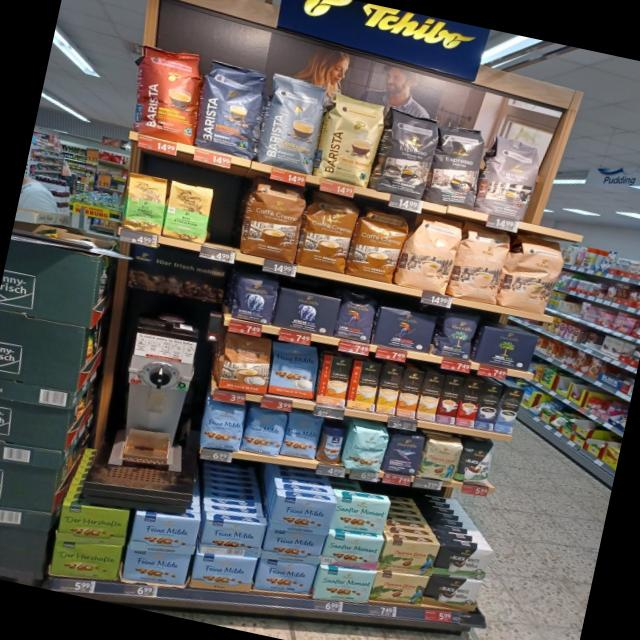AB Bohne: (228, 271, 280, 327)
AB Gemahlen: (273, 285, 340, 337)
Athiopien Bohne: (114, 168, 172, 235)
Athiopien Gemahlen: (162, 180, 216, 247)
BM Bohne: (434, 307, 479, 363)
BM Gemahlen: (474, 322, 538, 372)
BW Bohne: (455, 436, 499, 486)
BW Gemahlen: (431, 540, 495, 581), (420, 572, 485, 611)
Barista CB: (314, 89, 388, 188)
Barista CC: (252, 70, 332, 173)
Barista Espresso: (190, 55, 272, 160)
Barista Kolumbien: (134, 38, 202, 145)
C Fino Bohne: (382, 428, 426, 479)
CC Mild: (502, 232, 568, 315), (400, 211, 464, 295), (451, 220, 512, 304)
CC Vollmundig: (213, 332, 276, 396)
CC Vollmundig 36 Pads: (234, 174, 309, 263), (294, 187, 362, 276), (348, 202, 412, 284)
Colombia BB Bohne: (420, 434, 464, 484)
Colombia BB Gemahlen: (378, 538, 441, 578), (368, 569, 430, 604)
Empty Shelf: (204, 190, 248, 250)
Espresso Aromatisch: (477, 132, 546, 220)
Espresso Kraftig: (424, 122, 488, 212)
Espresso S Art: (373, 104, 442, 200)
FM 36 Pads: (264, 339, 324, 402)
FM Bohne: (198, 400, 248, 454), (240, 406, 288, 458), (280, 410, 324, 460)
FM Gemahlen: (128, 510, 202, 554), (267, 494, 338, 536), (188, 552, 259, 591), (198, 517, 267, 557), (121, 547, 192, 585), (250, 557, 318, 596), (259, 525, 326, 564)
FM Instant: (314, 420, 348, 466)
Herzhatfe Mundig: (54, 502, 131, 547), (50, 539, 122, 583)
LG Bohne: (334, 289, 378, 343)
LG Gemahlen: (373, 302, 438, 356)
SM Bohne: (342, 424, 391, 476)
SM Gemahlen: (309, 564, 377, 604), (318, 531, 385, 571), (329, 494, 392, 535)
Simo CCMild: (344, 360, 382, 412)
Simo CCMild bigpack: (374, 364, 404, 416)
Simo CCVollmundig: (315, 354, 353, 406)
Simo CCVollmundig bigpack: (395, 368, 423, 418)
Simo Decaff: (416, 371, 444, 421)
Simo Es Brazil: (454, 378, 484, 427)
Simo Es Caramel: (436, 374, 464, 425)
Simo Es Kraft: (474, 382, 503, 430)
Simo Es Vanilla: (493, 385, 525, 433)
